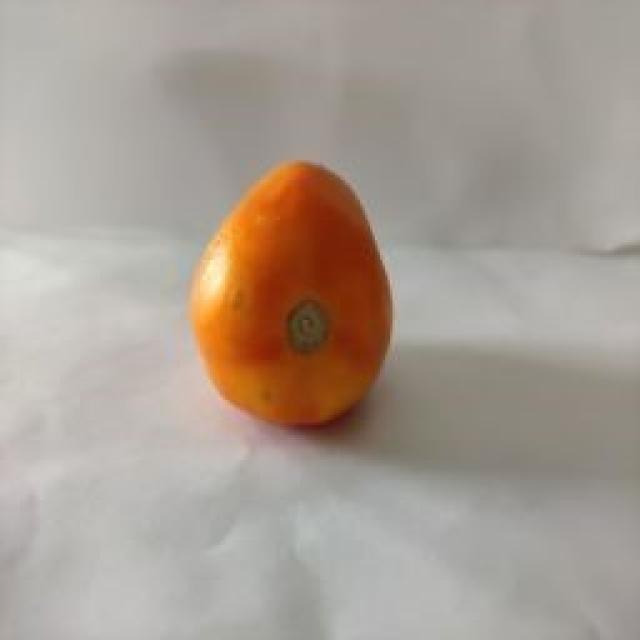Ripe: (184, 157, 398, 434)
